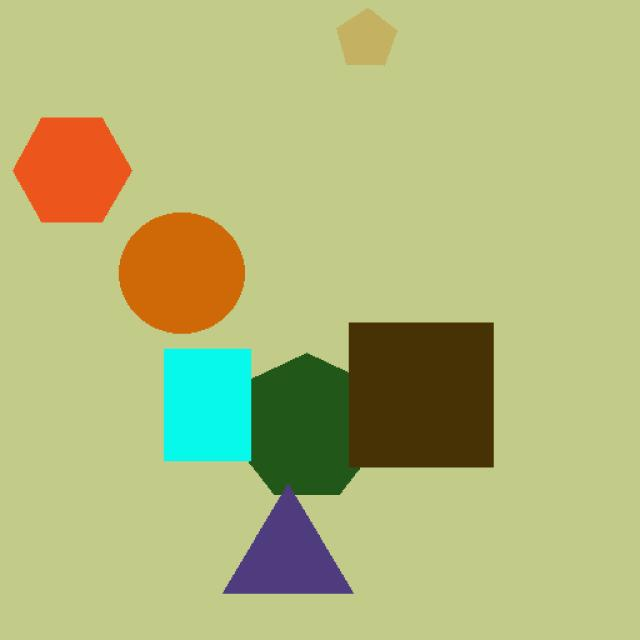Circle: (107, 194, 251, 348)
Heptagon: (230, 338, 380, 510)
Hexagon: (8, 100, 139, 243)
Pentagon: (322, 5, 407, 84)
Rectangle: (147, 332, 267, 478)
Triangle: (203, 478, 376, 616)
square: (346, 307, 537, 493)
